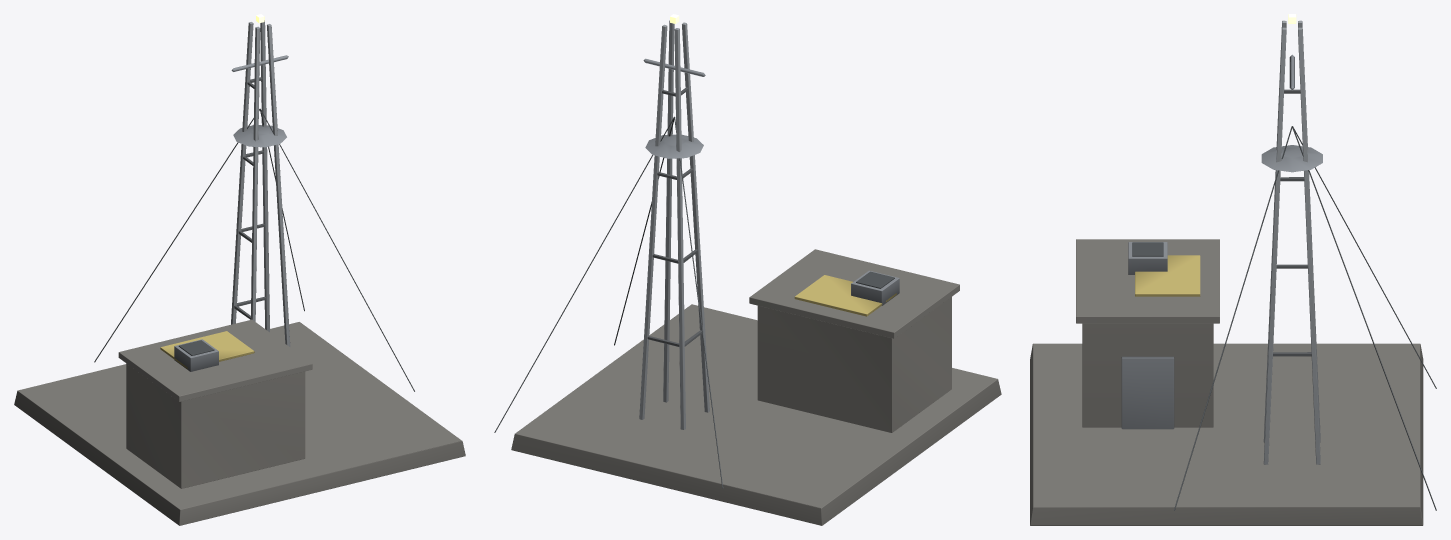
Rendered from comms_outpost.glb.
3 views of the same model, side by side, from view 1: azimuth 30°, elevation 25°; view 2: azimuth 150°, elevation 25°; view 3: azimuth 270°, elevation 25° (orthographic). The views are drawn at different scales.
Parts seen in each view (by area): view 1: Body; view 2: Body; view 3: Body.
Boxes of the visible parts, x1,y1,x2,y2 form: Body: (14, 14, 465, 525); Body: (494, 14, 1001, 525); Body: (1030, 14, 1436, 525).
Size of the model in its own units: 6.2 by 7.66 by 6.2.
